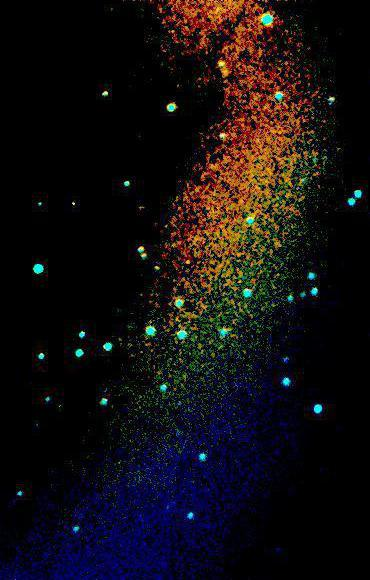star: (173, 251, 203, 281)
